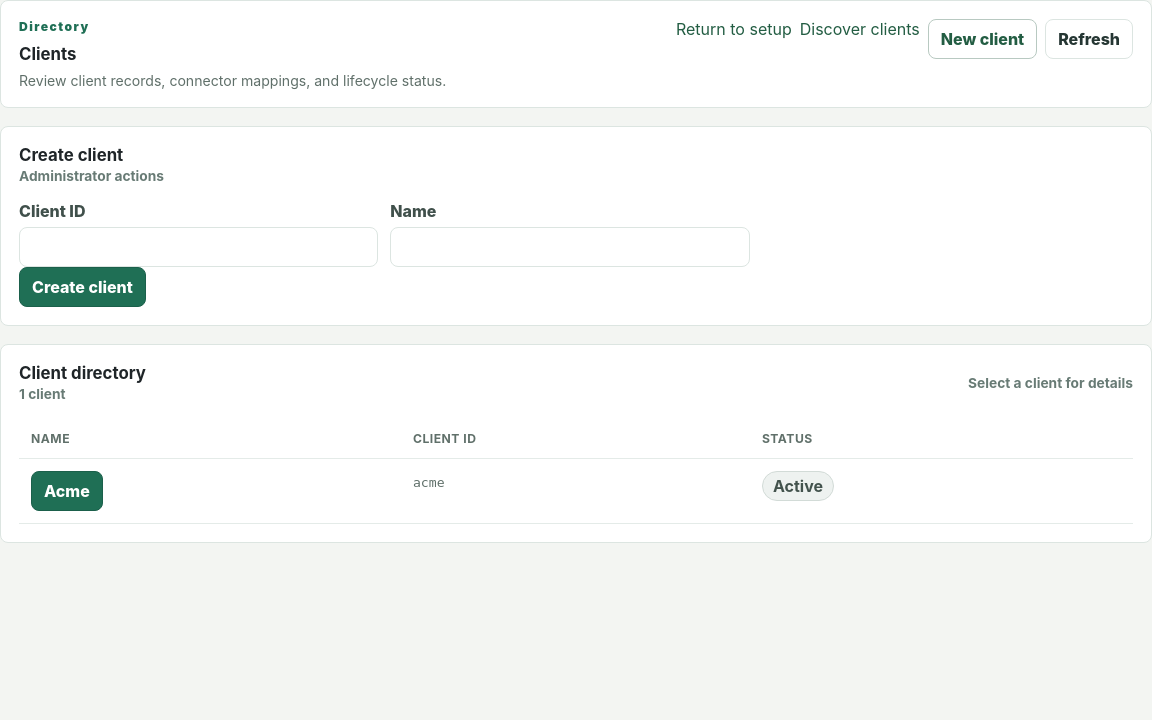
Test: Clients › switches to the read-only environment and resolves relationships
Click the button "Acme" at point(67, 491), box [31,471,103,511]
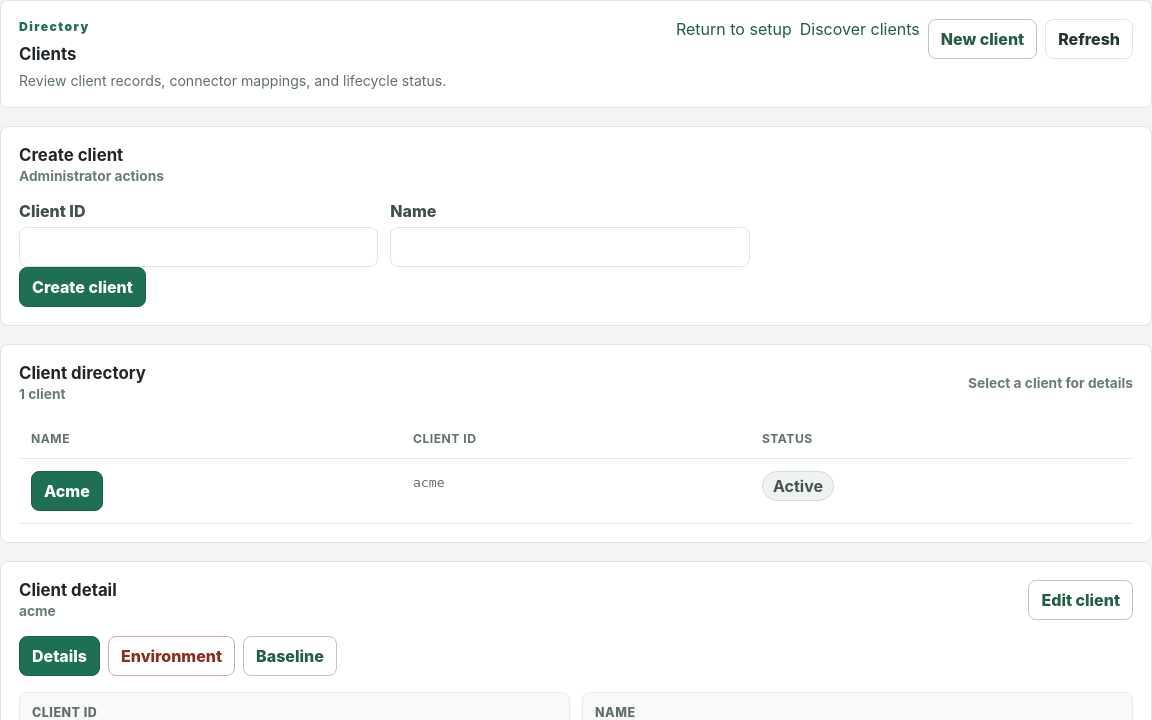
Click the tab "Environment" at point(172, 656), box [108,636,235,676]
(page scrolled)
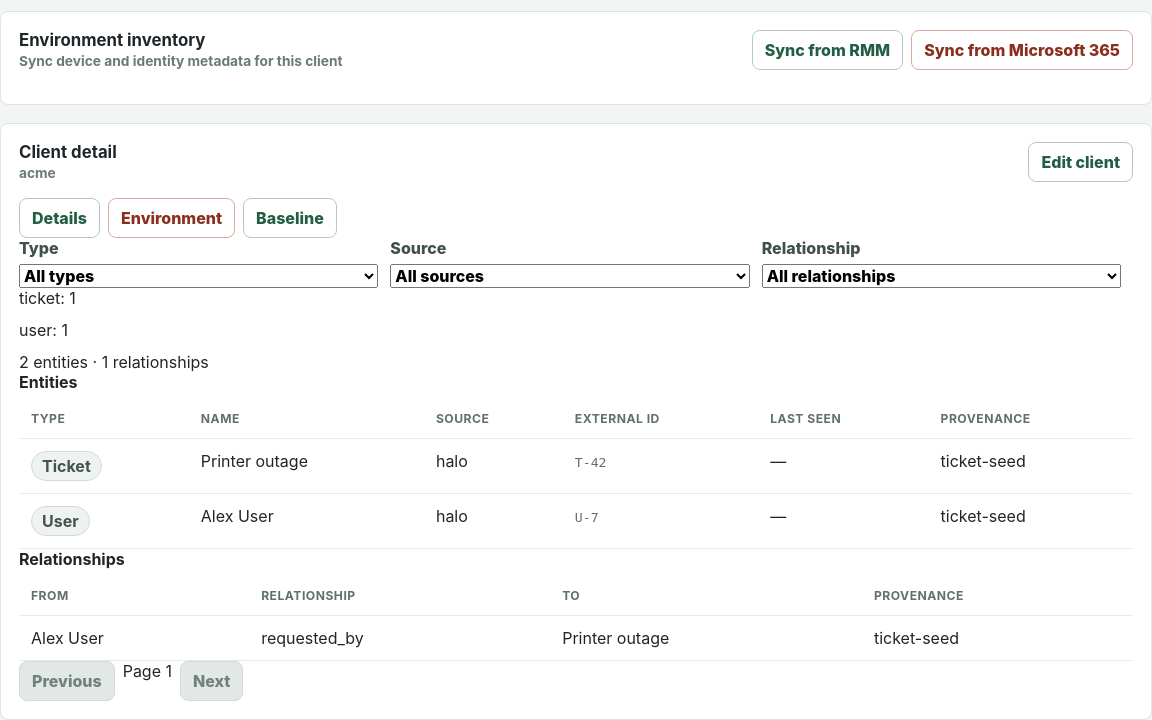
expect the text "Printer outage" in the row of "T-42" is shown: met, box [201,451,308,471]
expect the panel shows "Alex User": met, box [201,506,274,526]
expect the button "Previous" is disabled: met, box [19,661,115,701]
